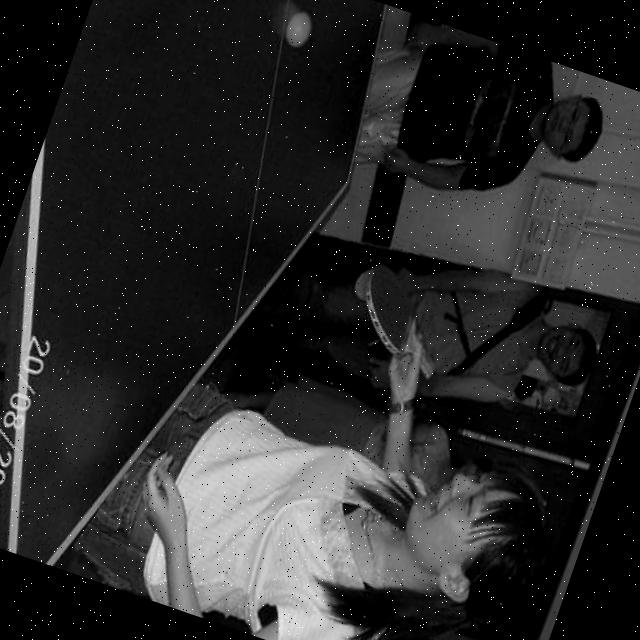ping-pong-ball: (279, 6, 317, 52)
